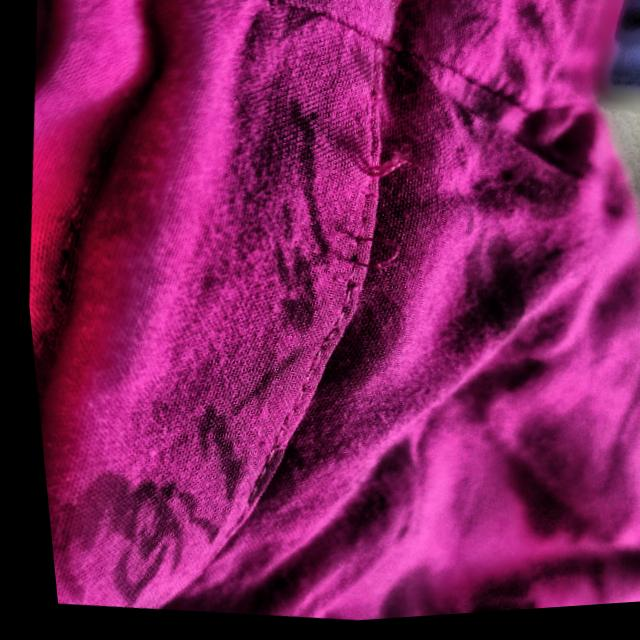Stitch: (317, 114, 443, 207), (313, 202, 421, 296)
